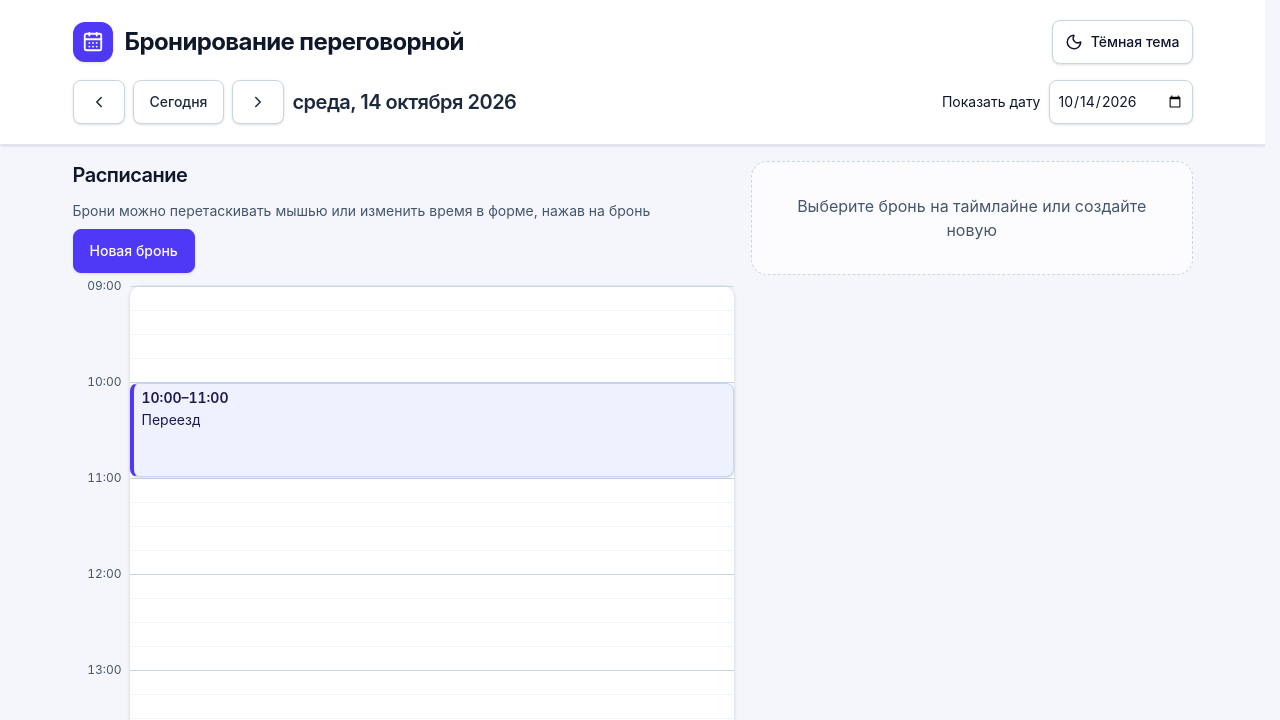
Test case: 5. move to another date › moves the booking and offers to go to the target date
The width and height of the screenshot is (1280, 720).
Click the button "10:00–11:00 Переезд".
click(185, 398)  # box [130, 383, 734, 477]
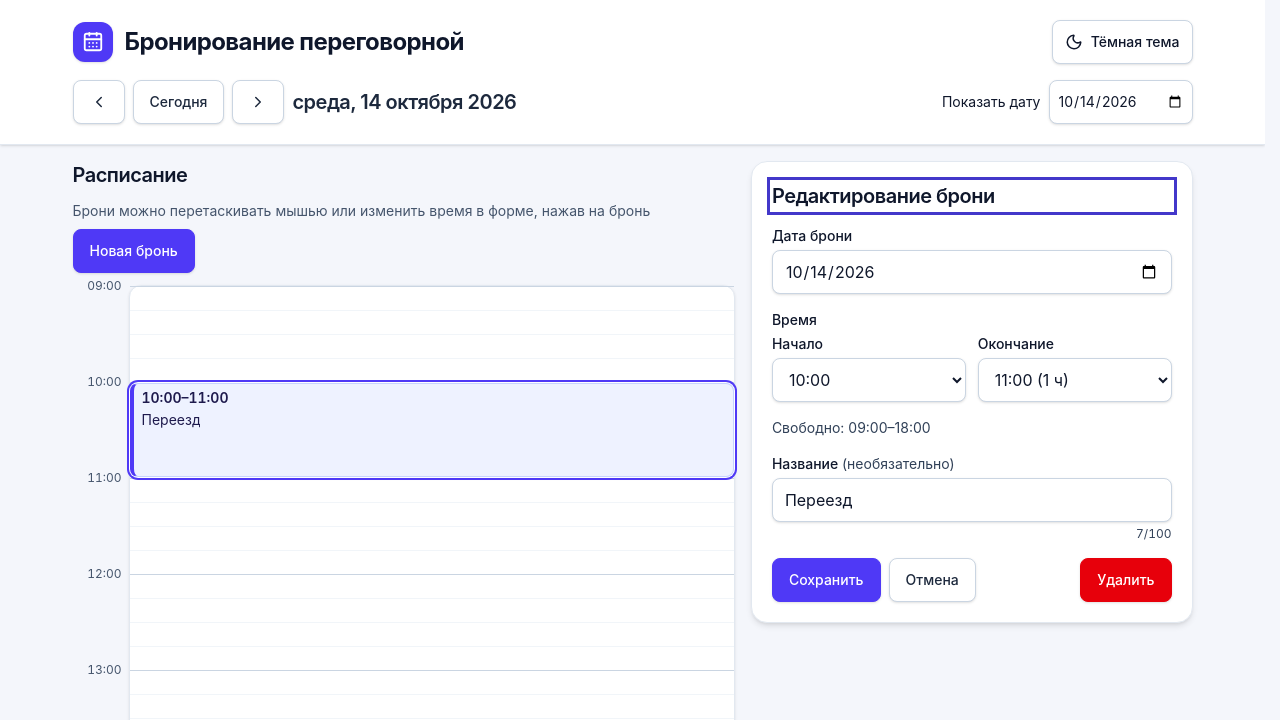
Now the heading "Редактирование брони" is shown, box [772, 184, 995, 208]
Type "2026-10-15" into the date field labelled "Дата брони".
click(972, 272); type("2026-10-15")  # box [772, 250, 1172, 294]
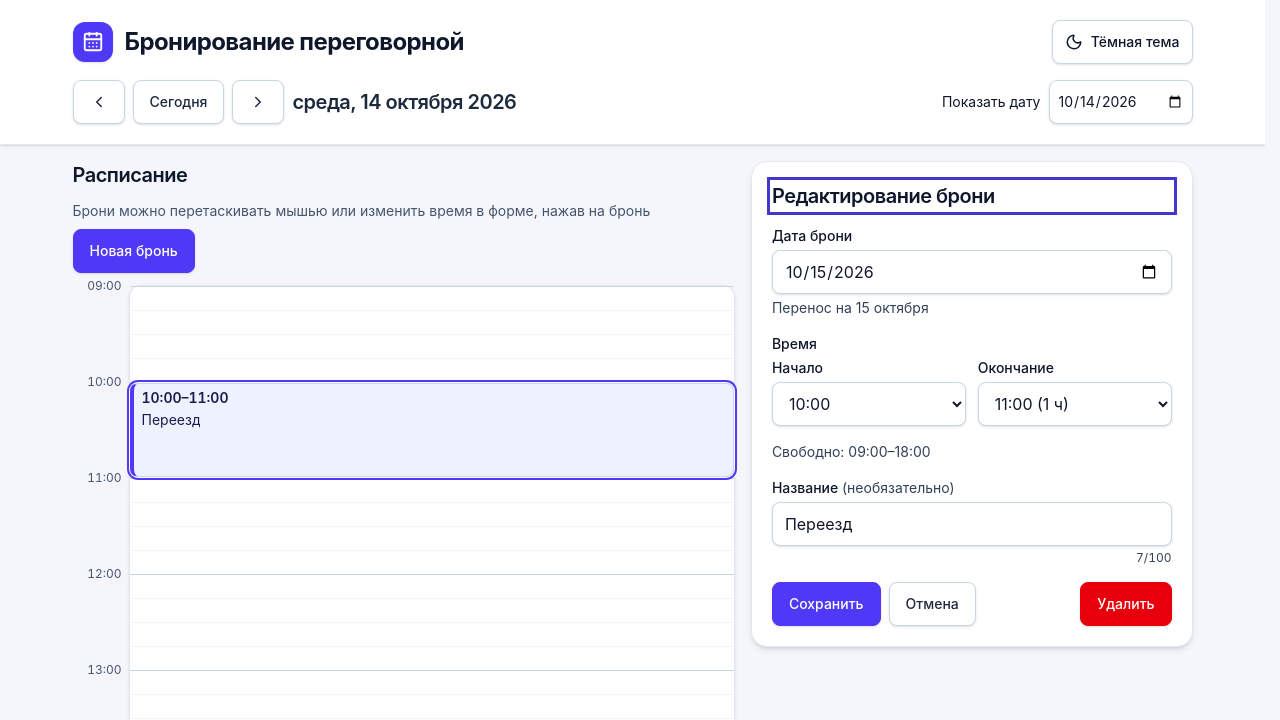
Now the text "Перенос на 15 октября" is shown, box [772, 299, 929, 316]
Click the button "Сохранить".
click(826, 604)  # box [772, 582, 881, 626]
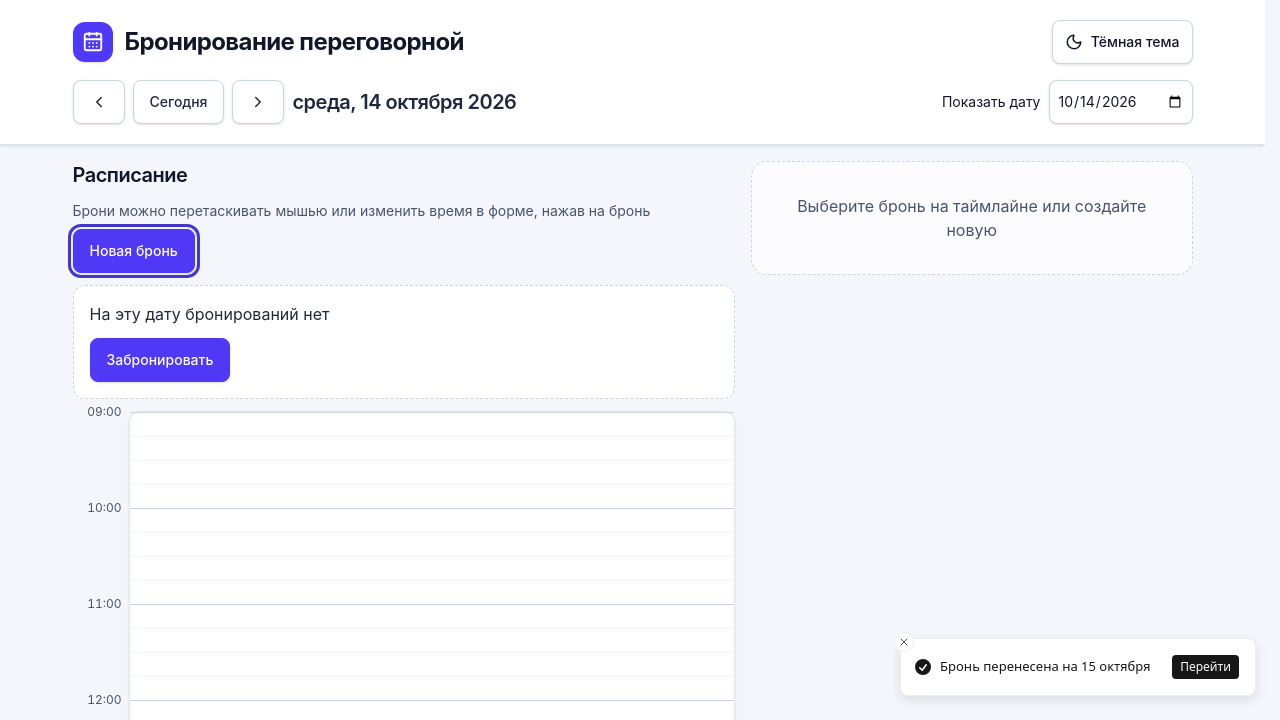
Now the text "Бронь перенесена на 15 октября" is shown, box [940, 657, 1151, 677]
Now the button "Переезд" is gone
Click the button "Перейти".
click(1206, 667)  # box [1172, 655, 1239, 679]
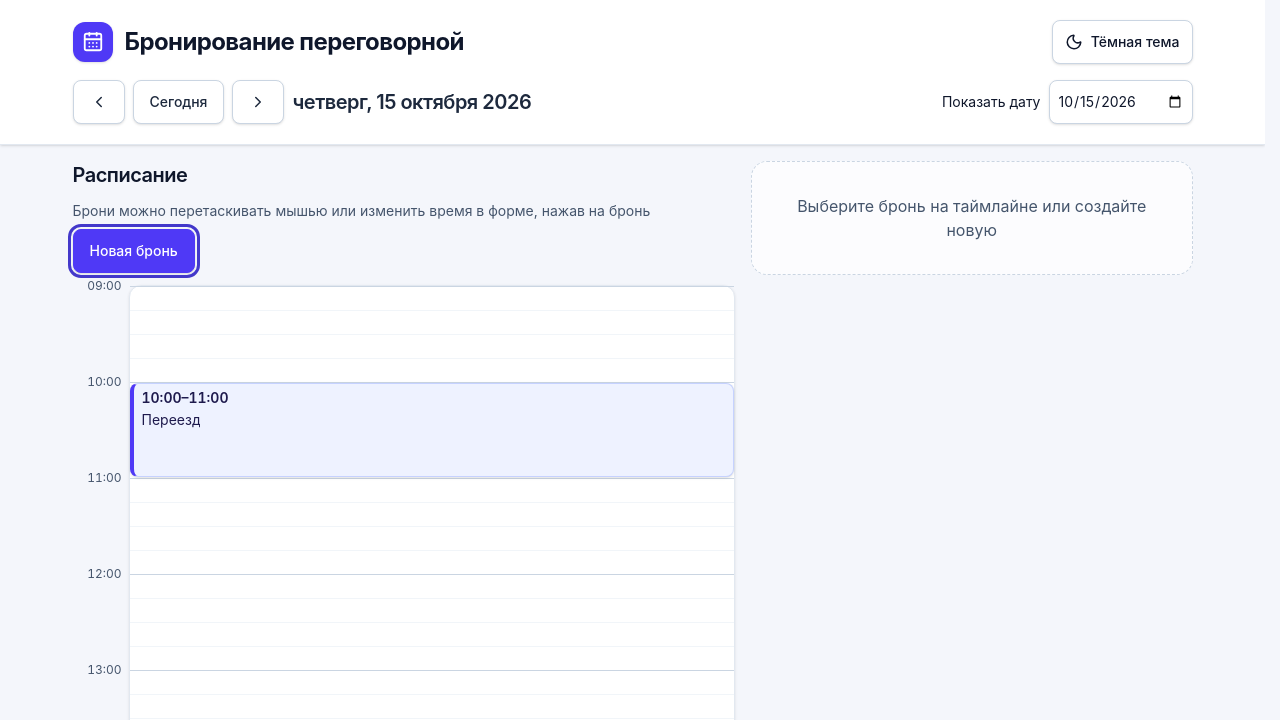
Now the button "10:00–11:00 Переезд" is shown, box [130, 383, 734, 477]
